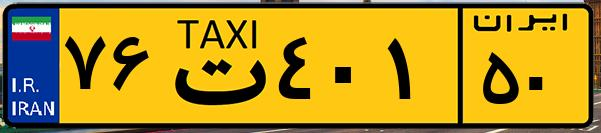0: (330, 28, 385, 110), (525, 38, 570, 115)
1: (385, 28, 445, 110)
4: (270, 28, 330, 110)
5: (475, 38, 525, 113)
6: (110, 28, 158, 98)
7: (57, 26, 110, 100)
ت: (158, 12, 270, 120)
